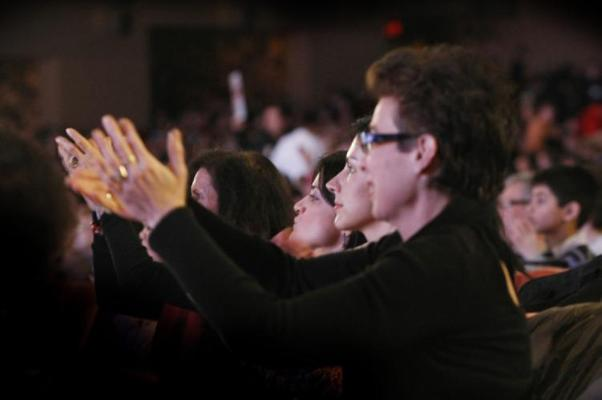person: (83, 46, 543, 400)
